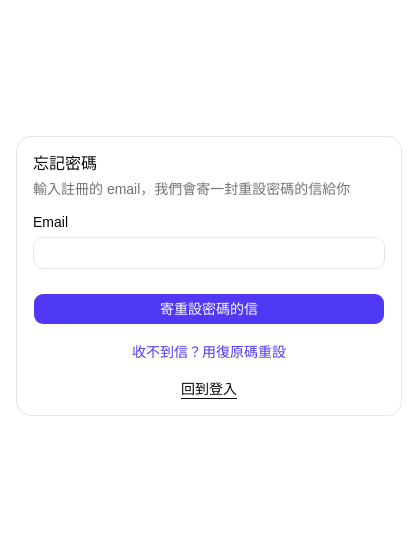
Test: ForgotPasswordPage with a recovery code (用復原碼重設) › says the server's answer when the email or code is wrong
The image size is (419, 553).
Click the button "收不到信？用復原碼重設" at (209, 352), box [33,341,385,363]
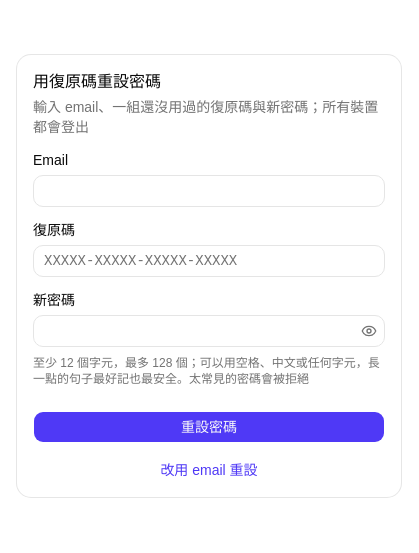
Type "a@example.com" into the field labelled "Email" at (209, 191), box [33,175,385,207]
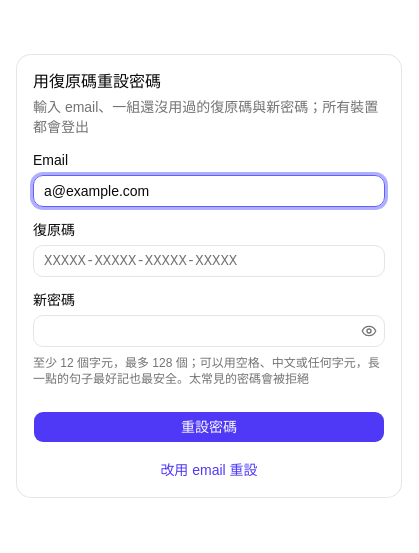
Type "wrong" into the field labelled "復原碼" at (209, 261), box [33,245,385,277]
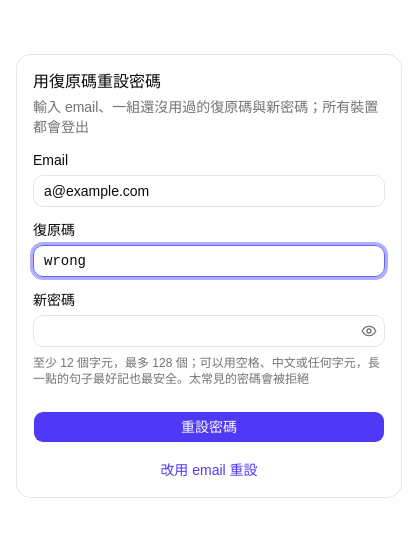
Type "a brand new password" into the password field labelled "新密碼" at (209, 331), box [33,315,385,347]
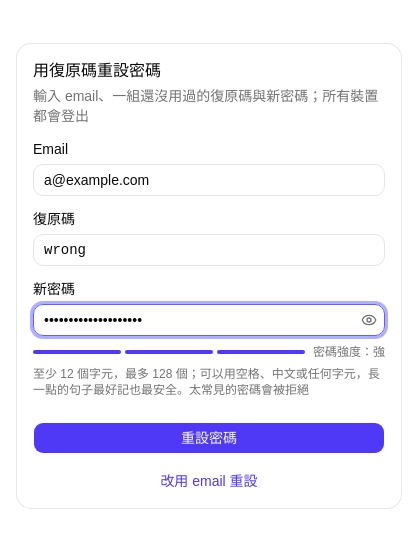
Click the button "重設密碼" at (209, 438), box [33,422,385,454]
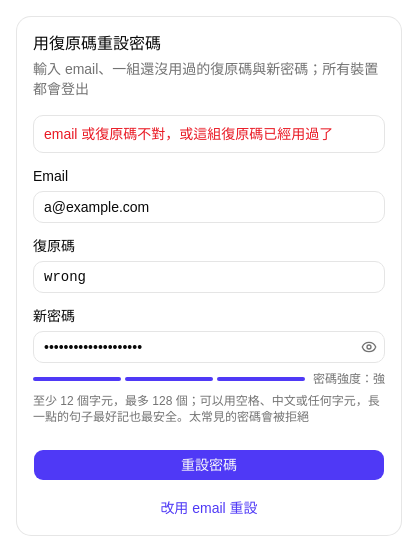
Expected: the text "email 或復原碼不對，或這組復原碼已經用過了" is shown, [44,124,374,144]
